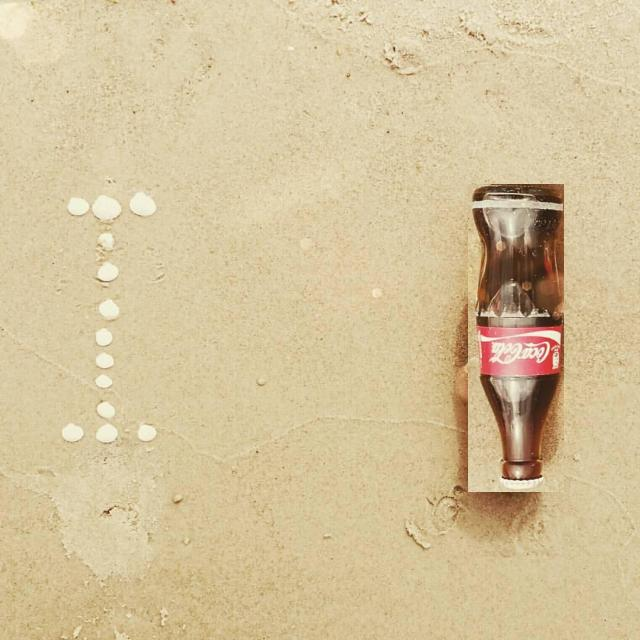coca-cola: (468, 185, 564, 492)
